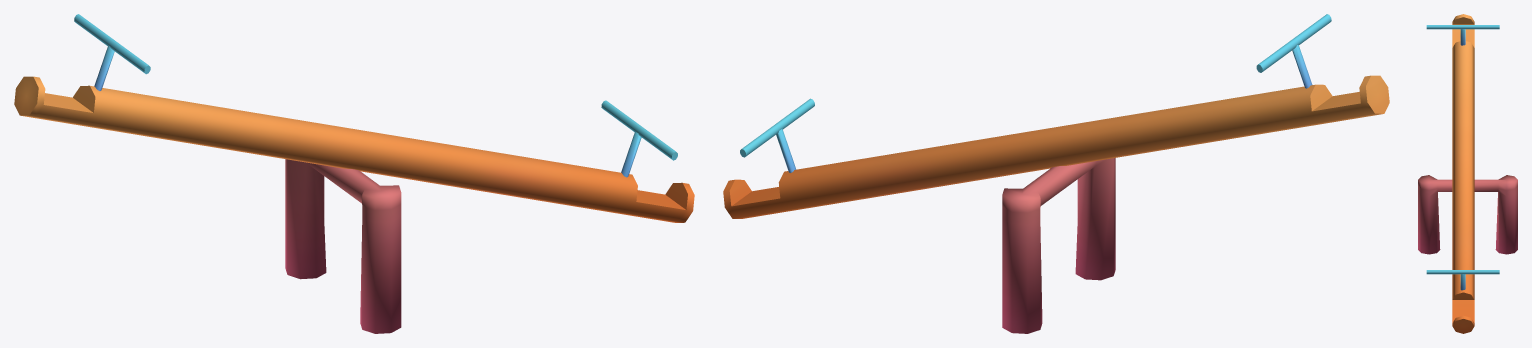
Rendered from seesaw_1.fbx.
The picture shows the model from 3 angles, left to right: view 1: azimuth 30°, elevation 25°; view 2: azimuth 150°, elevation 25°; view 3: azimuth 270°, elevation 25°; orthographic projection. The views are drawn at different scales.
Visible parts, largest first — view 1: seesaw_1; view 2: seesaw_1; view 3: seesaw_1.
Boxes of the visible parts, x1,y1,x2,y2 form: seesaw_1: (14,14,694,333); seesaw_1: (723,14,1389,333); seesaw_1: (1418,14,1517,333).
Bounding box in the file's own units: 647 × 296 × 161.
Materials: 1 (1 with a texture image).
